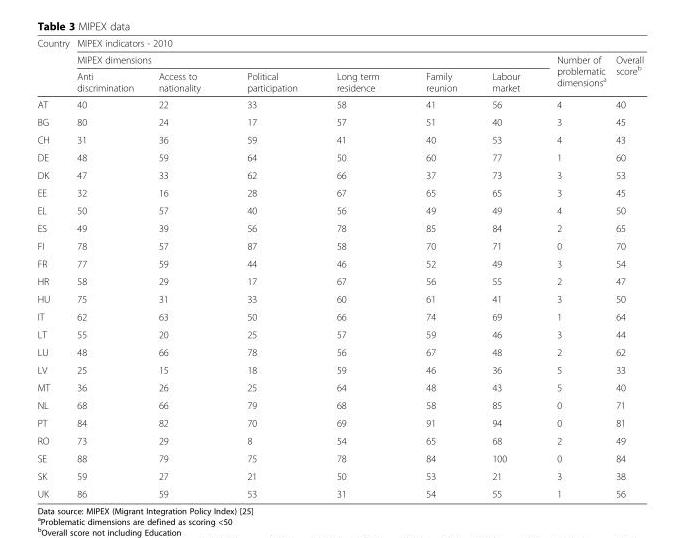table: (36, 37, 643, 499)
table column: (223, 37, 316, 499), (316, 37, 402, 499), (145, 37, 223, 499), (72, 37, 145, 499), (537, 37, 610, 499), (402, 37, 474, 499), (474, 37, 537, 499), (36, 37, 72, 499), (610, 37, 643, 499)
table column header: (36, 37, 643, 95)
table row: (36, 67, 643, 95), (36, 112, 643, 130), (36, 130, 643, 148), (36, 165, 643, 183), (36, 183, 643, 201), (36, 201, 643, 219), (36, 236, 643, 254), (36, 254, 643, 272), (36, 289, 643, 307), (36, 307, 643, 325), (36, 342, 643, 360), (36, 360, 643, 378), (36, 378, 643, 396), (36, 413, 643, 431), (36, 431, 643, 449), (36, 466, 643, 484), (36, 95, 643, 112), (36, 148, 643, 165), (36, 219, 643, 236), (36, 272, 643, 289), (36, 325, 643, 342), (36, 396, 643, 413), (36, 449, 643, 466), (36, 51, 643, 67), (36, 484, 643, 499), (36, 37, 643, 51)
table spanning cell: (72, 37, 643, 51), (72, 51, 537, 67), (537, 51, 610, 95), (36, 37, 72, 95), (610, 51, 643, 95)
